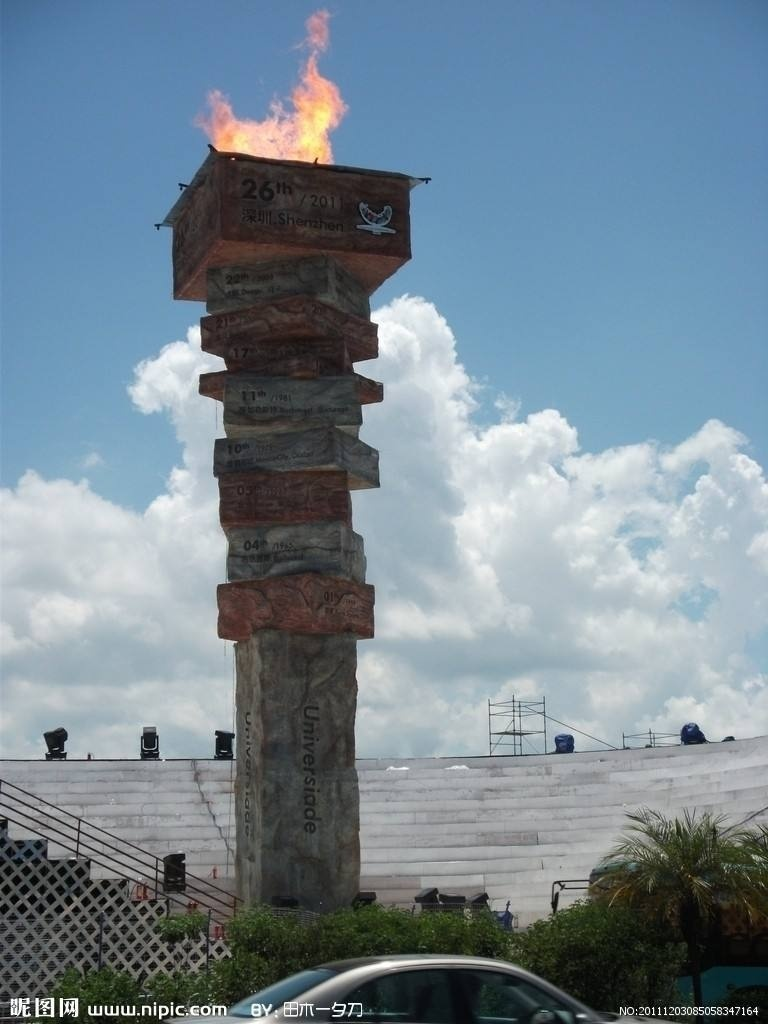fire: (198, 3, 351, 163)
